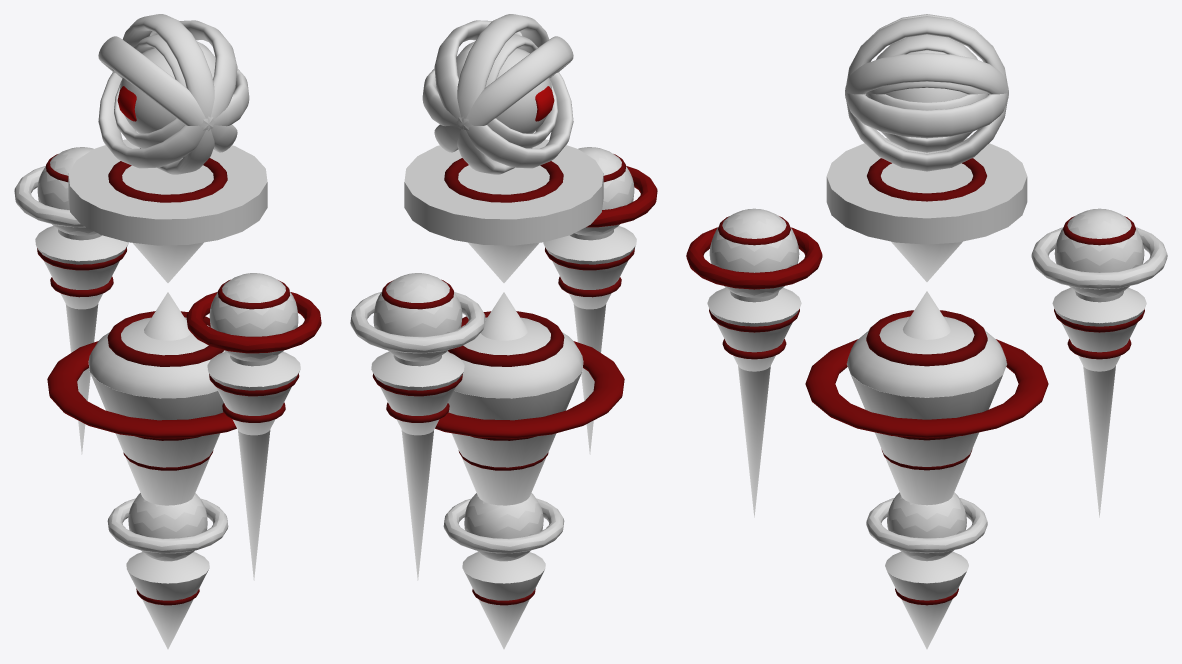
The model's file is WhitegolemActuallyFixed.fbx.
3 renders of one model, left to right at view 1: azimuth 30°, elevation 25°; view 2: azimuth 150°, elevation 25°; view 3: azimuth 270°, elevation 25°, orthographic.
Parts seen in each view (by area): view 1: polySurface13; view 2: polySurface13; view 3: polySurface13.
Part boxes in pixels (left/top/right/bottom): polySurface13: left=14, top=14, right=321, bottom=649; polySurface13: left=350, top=14, right=657, bottom=649; polySurface13: left=686, top=14, right=1167, bottom=649.
Size of the model in its own units: 16.21 by 46.44 by 32.08.
